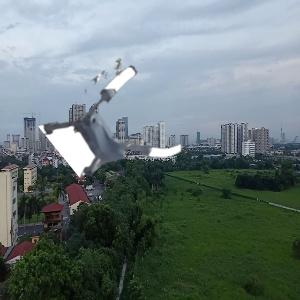drone: (61, 75, 180, 194)
